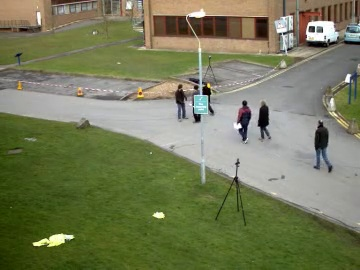person: (174, 82, 193, 120), (174, 83, 193, 120), (174, 83, 192, 120)
